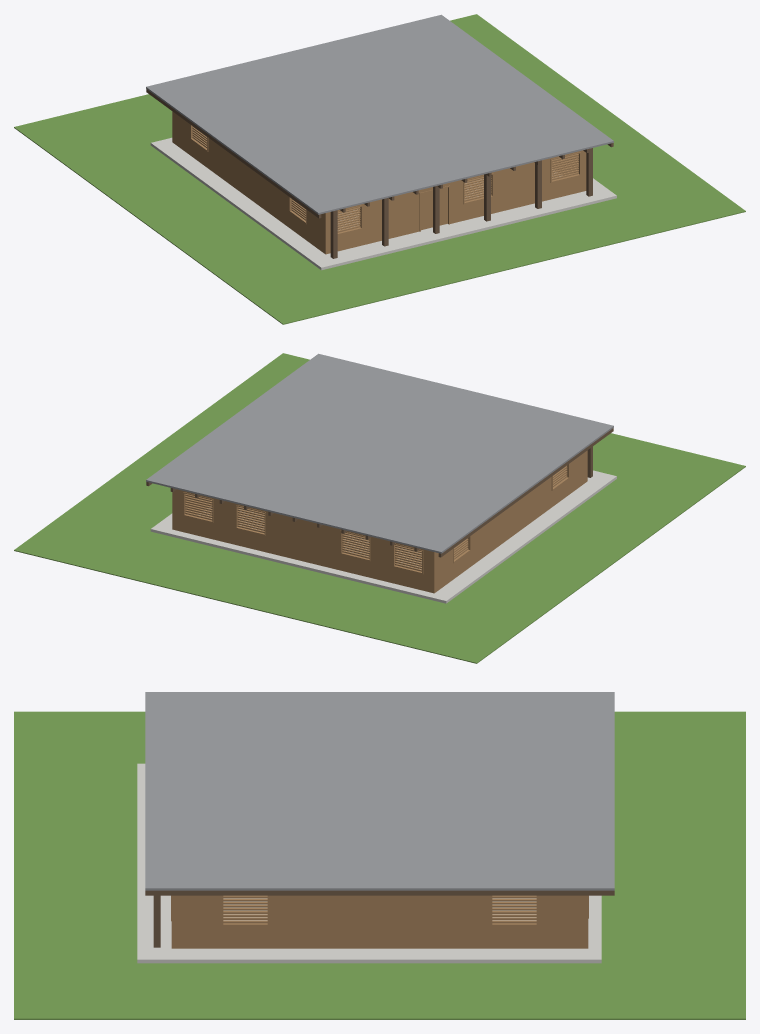
Rendered from edificio_apartado1.glb.
3 renders of one model, top to bottom at view 1: azimuth 30°, elevation 25°; view 2: azimuth 150°, elevation 25°; view 3: azimuth 270°, elevation 25°, orthographic. The views are drawn at different scales.
Visible parts, largest first — view 1: Edificio apartado 1; view 2: Edificio apartado 1; view 3: Edificio apartado 1.
Part boxes in pixels (bbox=[...]): Edificio apartado 1: bbox=[14, 14, 745, 324]; Edificio apartado 1: bbox=[14, 353, 745, 663]; Edificio apartado 1: bbox=[14, 692, 745, 1019].
Bounding box in the file's own units: 27.67 × 3.2 × 27.86.
